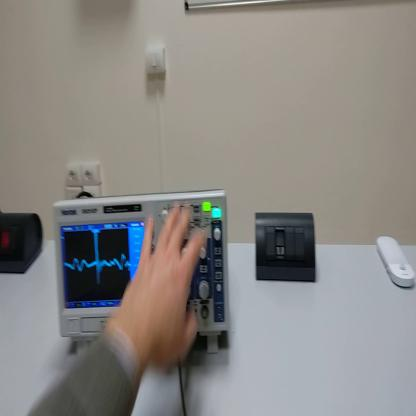hand: (119, 206, 205, 365)
oscilloscope: (47, 188, 229, 353)
socket: (2, 210, 44, 277)
